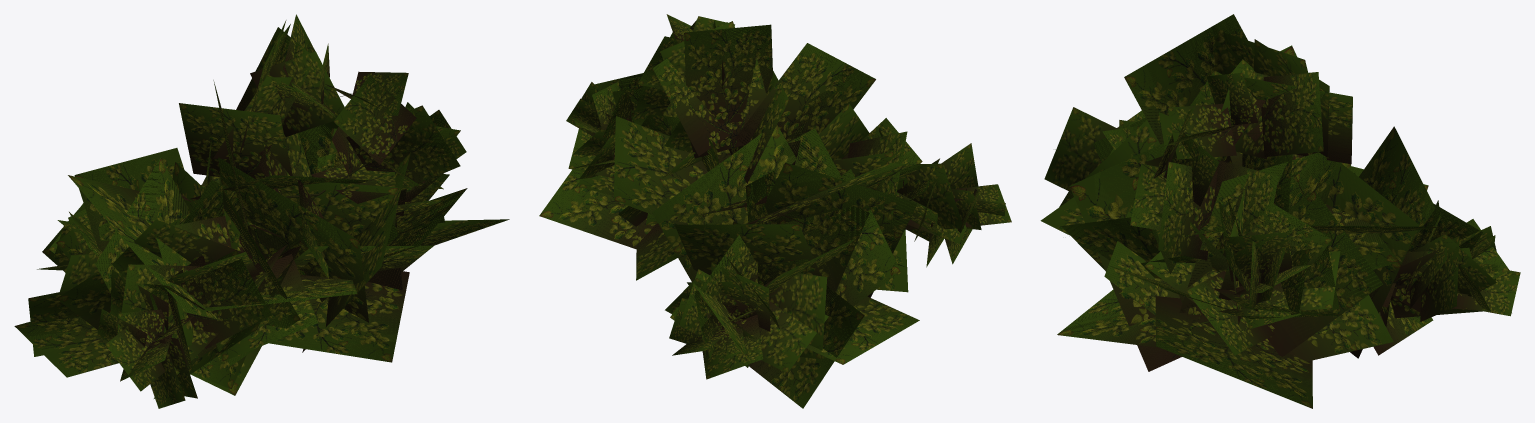
File: BlackBerry 1.fbx
3 renders of one model, left to right at view 1: azimuth 30°, elevation 25°; view 2: azimuth 150°, elevation 25°; view 3: azimuth 270°, elevation 25°, orthographic. The views are drawn at different scales.
Parts seen in each view (by area): view 1: BlackBerry_1; view 2: BlackBerry_1; view 3: BlackBerry_1.
Part boxes in pixels (x1,y1,x2,y2): BlackBerry_1: (14,14,509,408); BlackBerry_1: (539,14,1011,408); BlackBerry_1: (1040,14,1520,408).
Bounding box in the file's own units: 344 × 257 × 305.
